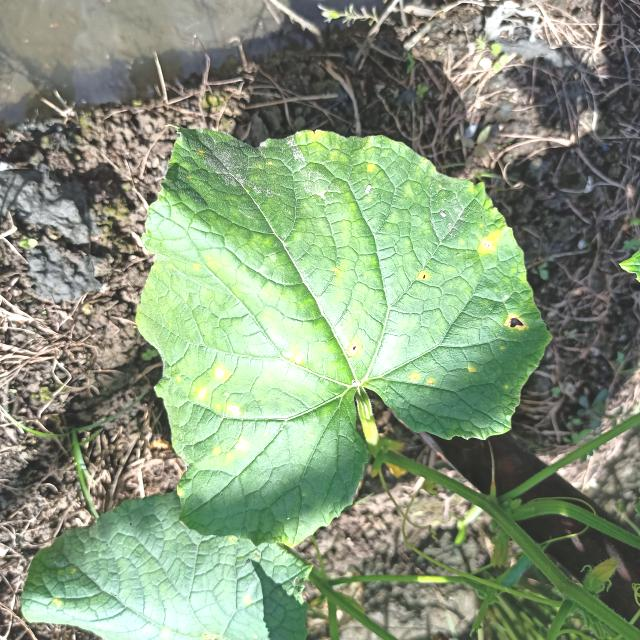disease_cucumber: (196, 366, 250, 464), (478, 227, 502, 254), (502, 310, 528, 332), (404, 370, 436, 387), (349, 340, 361, 355), (292, 352, 303, 367), (419, 270, 428, 280)
